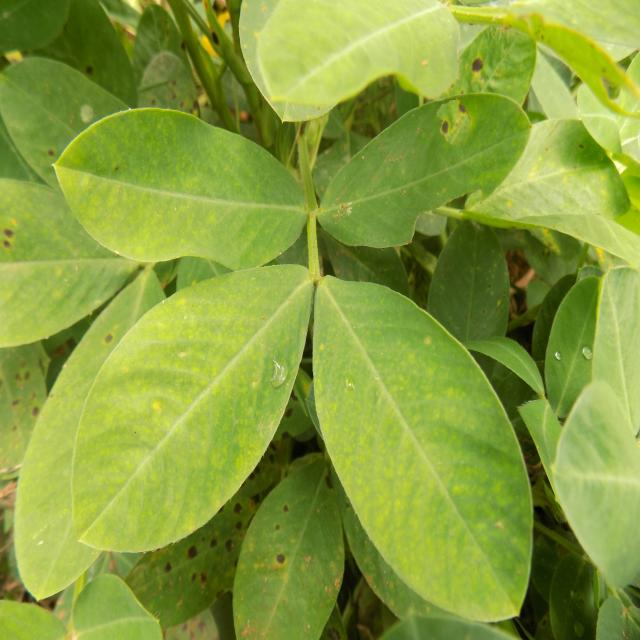Ground nut_healthy: (310, 282, 537, 623), (72, 268, 312, 554), (50, 110, 316, 270)
